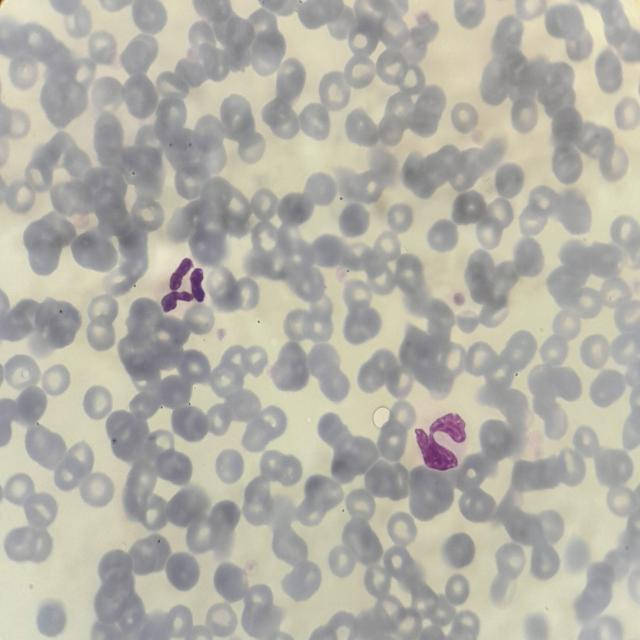Neutrofilo: (412, 406, 470, 472), (157, 252, 209, 317)
